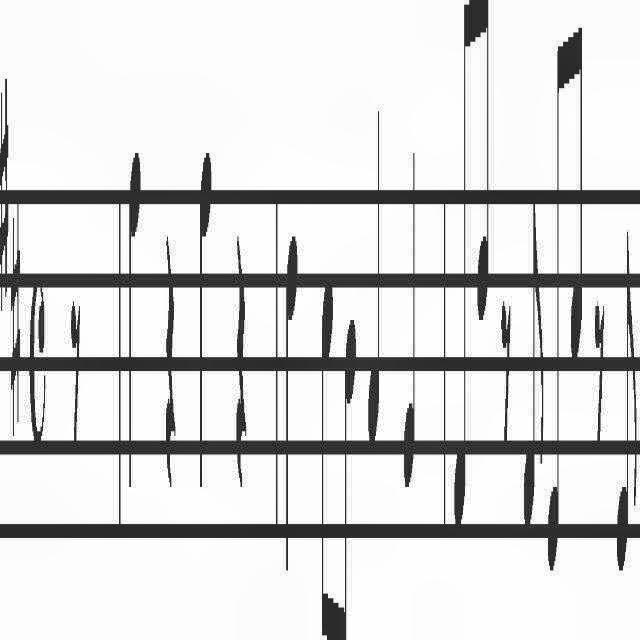Diez: (10, 195, 22, 455), (0, 60, 10, 320)
Eighth-note: (518, 174, 546, 546), (546, 3, 564, 567), (451, 2, 469, 542), (616, 231, 640, 601), (317, 227, 334, 640), (339, 296, 357, 640), (569, 0, 585, 384), (474, 0, 490, 352)
Eighth-rest: (69, 280, 83, 488), (592, 252, 604, 478), (499, 277, 513, 459)
Quarter-note: (397, 124, 419, 494), (196, 109, 214, 499), (364, 102, 384, 452), (126, 142, 142, 530), (283, 213, 299, 587)
Quarter-rest: (160, 198, 178, 548), (232, 198, 250, 496)
